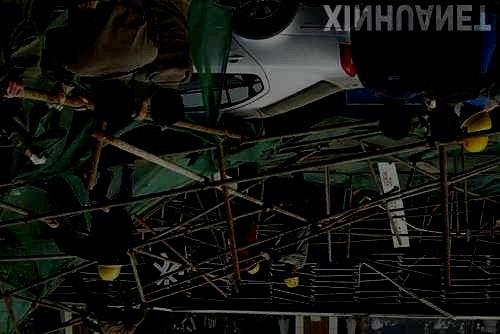helmet: (460, 104, 492, 132), (96, 263, 123, 281), (284, 266, 299, 288), (247, 263, 260, 275)
